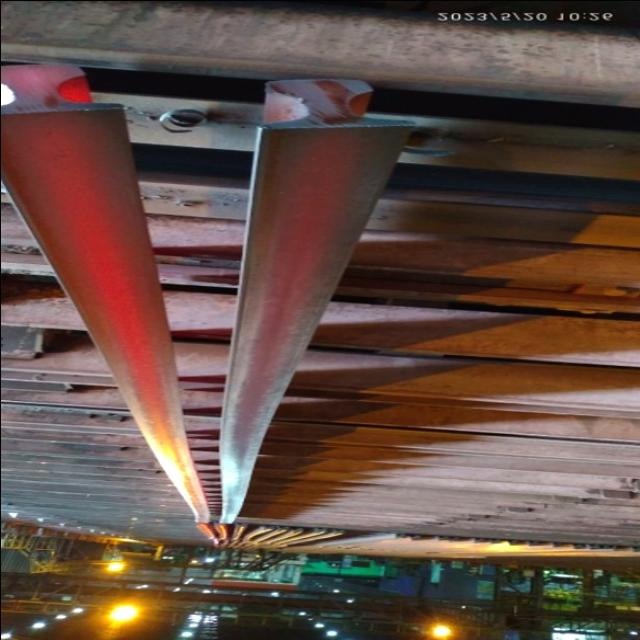defect: (220, 302, 320, 521), (101, 335, 208, 519)
